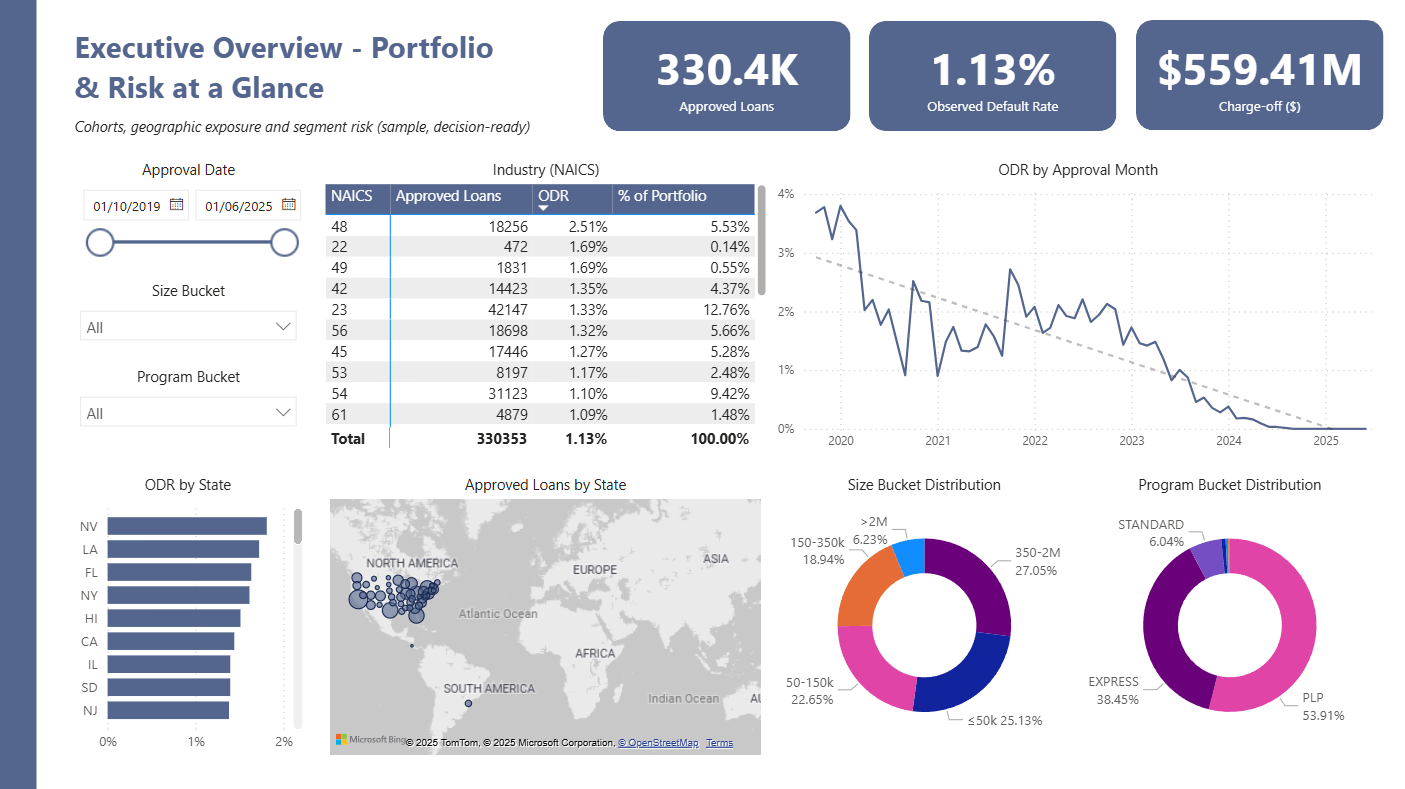

The page's visual inventory and layout, read from the dashboard file:
{"tool":"powerbi","page":{"name":"Executive","canvas":[1280,720],"ordinal":0},"visuals":[{"type":"shape","box":[792.2,21.3,225,100],"z":0},{"type":"shape","box":[549.8,21.3,225.2,100.2],"z":1000},{"type":"shape","box":[1034.4,20.4,225.2,100.2],"z":2000},{"type":"shape","box":[0,0,35.3,719.7],"z":3000},{"type":"card","fields":{"Values":["Measure Table.Approved"]},"box":[549.8,21.3,225.2,100.2],"z":4000},{"type":"card","fields":{"Values":["Measure Table.ODR"]},"box":[791.8,21.3,225.2,100.2],"z":5000},{"type":"card","fields":{"Values":["Sum(fact_loans.gross_charge_off_amount)"]},"box":[1034.8,21.3,225.2,100.2],"z":6000},{"type":"lineChart","title":"ODR by Approval Month","fields":{"Y":["Measure Table.ODR (stable)"],"Category":["fact_loans.approval_ym.Variation.Date Hierarchy.Year","fact_loans.approval_ym.Variation.Date Hierarchy.Month"]},"box":[703.4,147.6,556.7,273.4],"z":7000},{"type":"map","title":"Approved Loans by State","fields":{"Category":["fact_loans.project_state"],"Size":["CountNonNull(fact_loans.gross_approval)"]},"box":[297,434,401,260],"z":8000},{"type":"clusteredBarChart","title":"ODR by State","fields":{"Category":["fact_loans.project_state"],"Y":["Measure Table.ODR"]},"box":[64,434,218,260],"z":9000},{"type":"pivotTable","title":"Industry (NAICS)","fields":{"Rows":["fact_loans.naics_code_2"],"Values":["CountNonNull(fact_loans.gross_approval)","Measure Table.ODR","Measure Table.% of Portfolio"]},"box":[292.4,147.6,411,267],"z":10000},{"type":"slicer","title":"Approval Date","fields":{"Values":["fact_loans.approval_ym"]},"box":[64.3,147.6,217.3,109.5],"z":11000},{"type":"slicer","title":"Size Bucket","fields":{"Values":["fact_loans.size_bucket"]},"box":[64.3,257.1,217.3,78.8],"z":12000},{"type":"slicer","title":"Program Bucket","fields":{"Values":["fact_loans.processing_bucket"]},"box":[64.3,335.8,217.3,78.8],"z":13000},{"type":"textbox","box":[64.3,20.8,414.6,89.6],"z":14000},{"type":"textbox","box":[64.3,102.3,446.3,37.1],"z":15000},{"type":"donutChart","title":"Size Bucket Distribution","fields":{"Category":["fact_loans.size_bucket"],"Y":["CountNonNull(fact_loans.size_bucket)"]},"box":[702.4,433.9,278.8,256.2],"z":16000},{"type":"donutChart","title":"Program Bucket Distribution","fields":{"Category":["fact_loans.processing_bucket"],"Y":["CountNonNull(fact_loans.processing_bucket)"]},"box":[981.2,433.9,277.9,256.2],"z":17000}]}

Visuals, with their boxes in screenshot pixels (x1, y1, x2, y2), scaled from the page's 1280x720 canvas onto the 1405x789 screenshot:
shape: 870 23 1117 133
shape: 603 23 851 133
shape: 1135 22 1383 132
shape: 0 0 39 788
card - Measure Table.Approved: 603 23 851 133
card - Measure Table.ODR: 869 23 1116 133
card - Sum(fact_loans.gross_charge_off_amount): 1136 23 1383 133
"ODR by Approval Month" lineChart: 772 162 1383 461
"Approved Loans by State" map: 326 476 766 761
"ODR by State" clusteredBarChart: 70 476 310 761
"Industry (NAICS)" pivotTable: 321 162 772 454
"Approval Date" slicer: 71 162 309 282
"Size Bucket" slicer: 71 282 309 368
"Program Bucket" slicer: 71 368 309 454
textbox: 71 23 526 121
textbox: 71 112 560 153
"Size Bucket Distribution" donutChart: 771 475 1077 756
"Program Bucket Distribution" donutChart: 1077 475 1382 756
